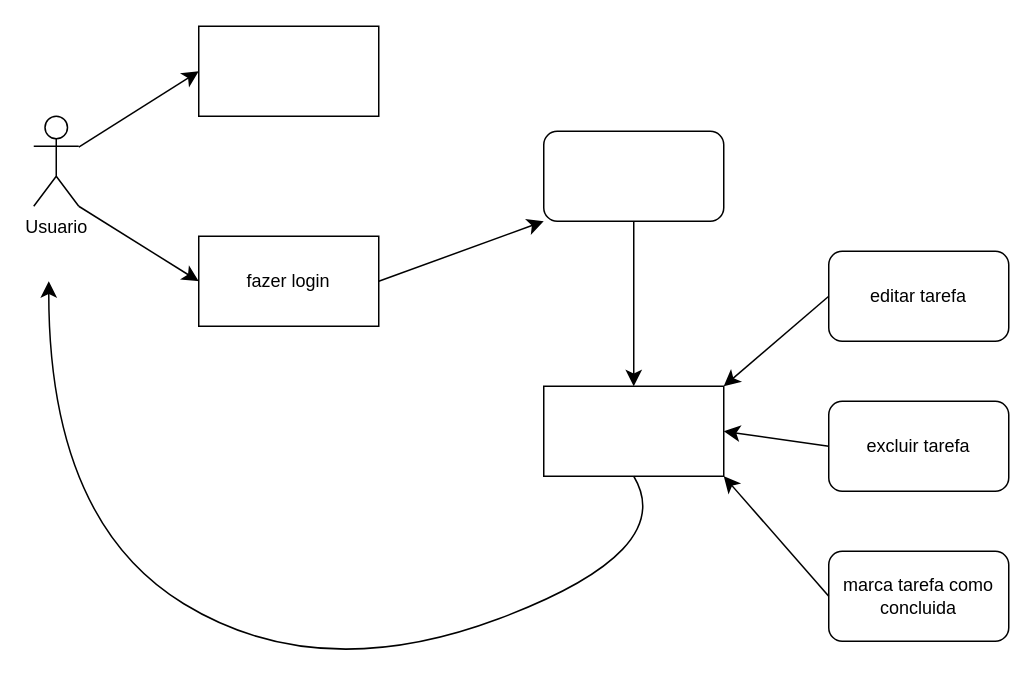
Image size: 1035x677. Some labels were removed from this diagram. Each missing label, with the centre of its shape:
cadastro do usuário: pixel 288 70
criar tarefa: pixel 633 175
listar tarefa: pixel 633 430
